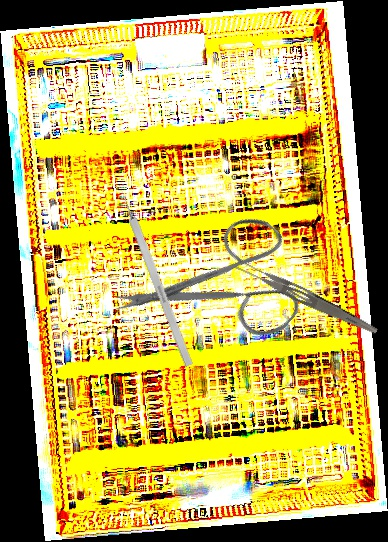Dressing Forceps: (232, 255, 382, 338)
Hook Surgical: (115, 183, 194, 368)
Iris Scissors: (109, 179, 330, 401)
